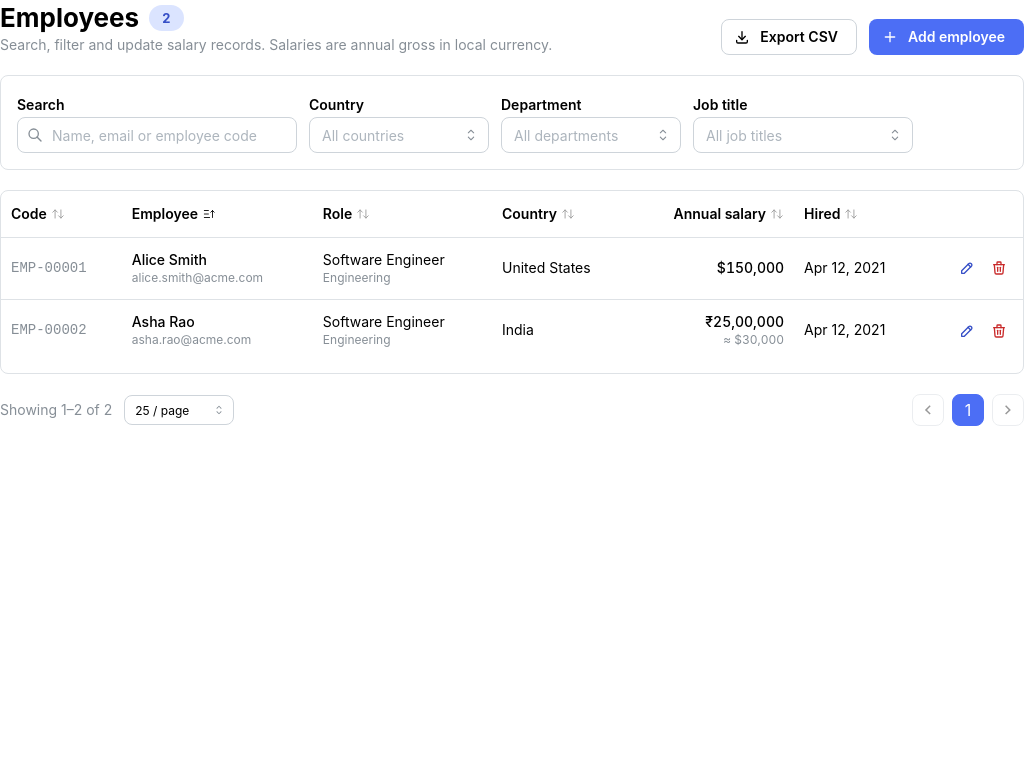
EmployeesPage › asks for confirmation before deleting
Expected: the text "Alice Smith" is shown, [132, 251, 207, 268]
What coordinates should you click on to do the following:
click the button named "Delete Alice Smith"
I would click on:
 (999, 268)
Its box is [985, 254, 1013, 282].
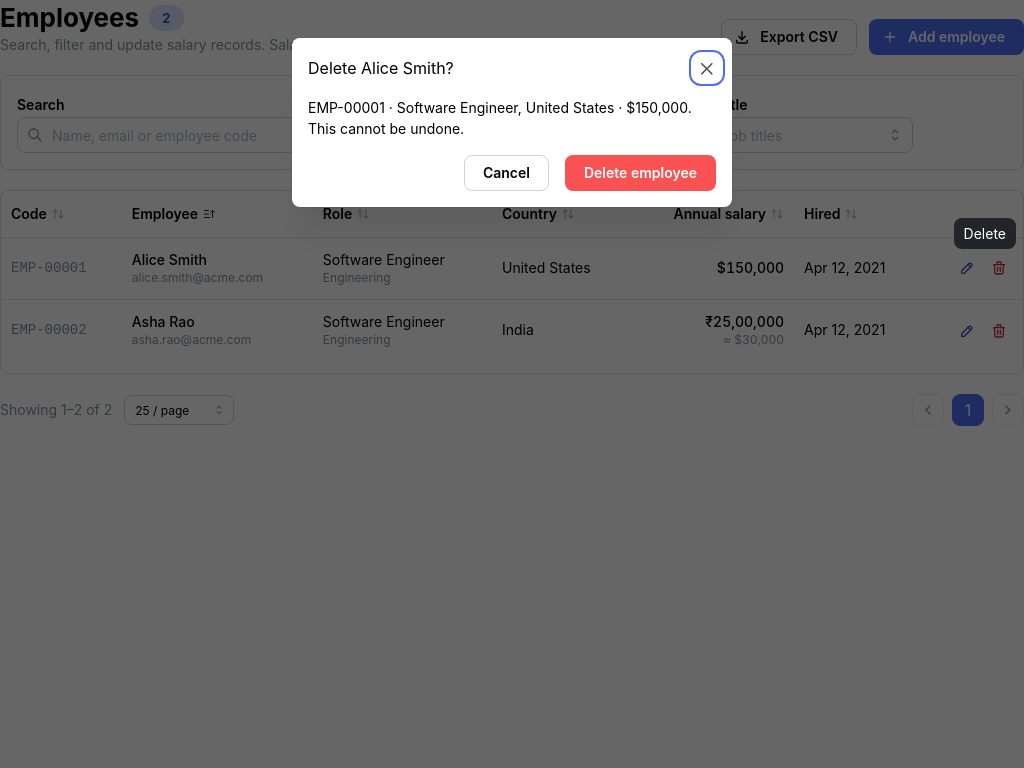
Expected: the heading "Delete Alice Smith?" is shown, [308, 60, 454, 76]
